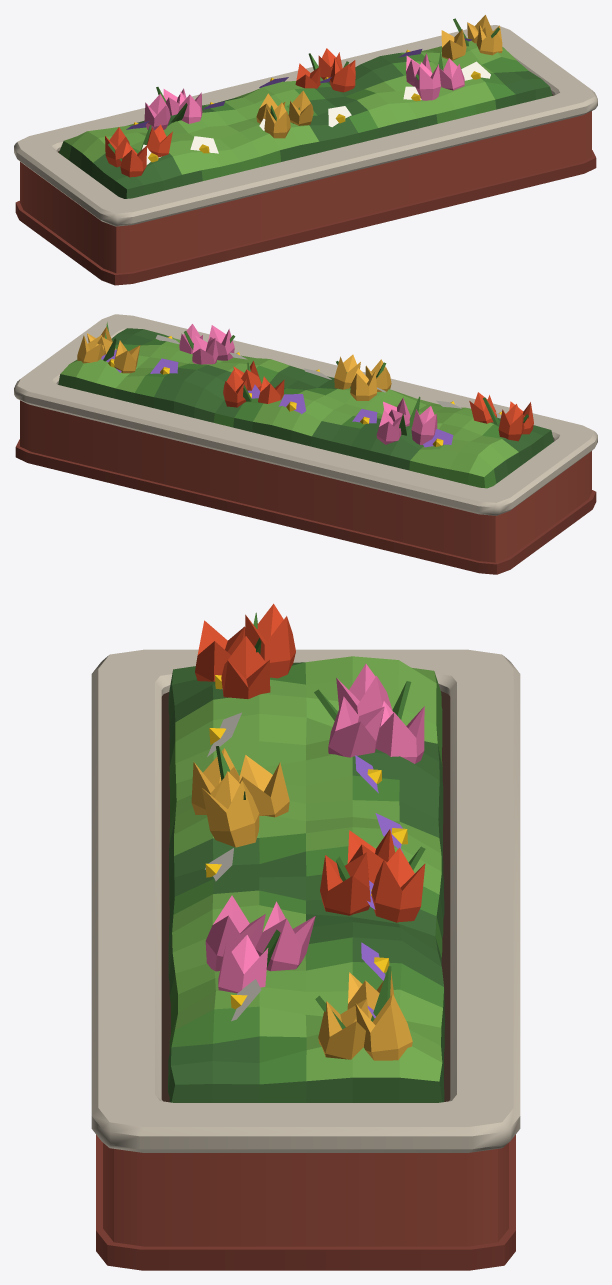
Rendered from Lobby_FlowerBed.fbx.
3 views of the same model, one above another, from view 1: azimuth 30°, elevation 25°; view 2: azimuth 150°, elevation 25°; view 3: azimuth 270°, elevation 25° (orthographic). The views are drawn at different scales.
Parts seen in each view (by area): view 1: Bed, Coping, LeavesLight, LeavesDark, Plinth, LeavesMid, TulipsRed, TulipsPink, TulipsGold, DaisiesWhite, TulipLeaves, DaisiesViolet (+1 smaller); view 2: Bed, Coping, LeavesDark, LeavesLight, Plinth, LeavesMid, TulipsPink, TulipsGold, TulipsRed, DaisiesViolet, TulipLeaves, DaisiesWhite (+1 smaller); view 3: Coping, LeavesLight, Bed, LeavesDark, LeavesMid, TulipsRed, TulipsPink, Plinth, TulipsGold, Soil, TulipLeaves, DaisiesWhite (+2 smaller).
Part boxes in pixels (x1,y1,x2,y2): Bed: (20, 111, 591, 273); Coping: (14, 25, 597, 226); LeavesLight: (64, 38, 516, 174); LeavesDark: (69, 53, 552, 198); Plinth: (15, 150, 596, 285); LeavesMid: (59, 52, 528, 180); TulipsRed: (105, 48, 355, 177); TulipsPink: (144, 53, 464, 130); TulipsGold: (256, 15, 502, 138); DaisiesWhite: (142, 61, 490, 164); TulipLeaves: (108, 18, 499, 161); DaisiesViolet: (126, 38, 472, 129); Bed: (20, 400, 591, 562); Coping: (14, 314, 597, 515); LeavesDark: (58, 328, 553, 483); LeavesLight: (60, 338, 518, 476); Plinth: (15, 439, 596, 574); LeavesMid: (115, 334, 505, 488); TulipsPink: (179, 324, 437, 444); TulipsGold: (77, 327, 391, 400); TulipsRed: (223, 361, 533, 441); DaisiesViolet: (101, 349, 453, 447); TulipLeaves: (103, 322, 528, 435); DaisiesWhite: (155, 335, 501, 418); Coping: (91, 649, 520, 1152); LeavesLight: (172, 656, 442, 1081); Bed: (103, 1143, 508, 1246); LeavesDark: (168, 662, 444, 1102); LeavesMid: (169, 662, 443, 1084); TulipsRed: (195, 603, 425, 922); TulipsPink: (205, 663, 424, 993); Plinth: (96, 1134, 515, 1270); TulipsGold: (191, 748, 412, 1060); Soil: (161, 691, 450, 1102); TulipLeaves: (216, 612, 425, 1029); DaisiesWhite: (205, 688, 261, 1021).
Bounding box in the file's own units: 800 × 180 × 300.
